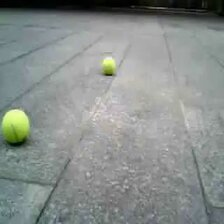tennis: (1, 109, 29, 142), (103, 57, 115, 73)
